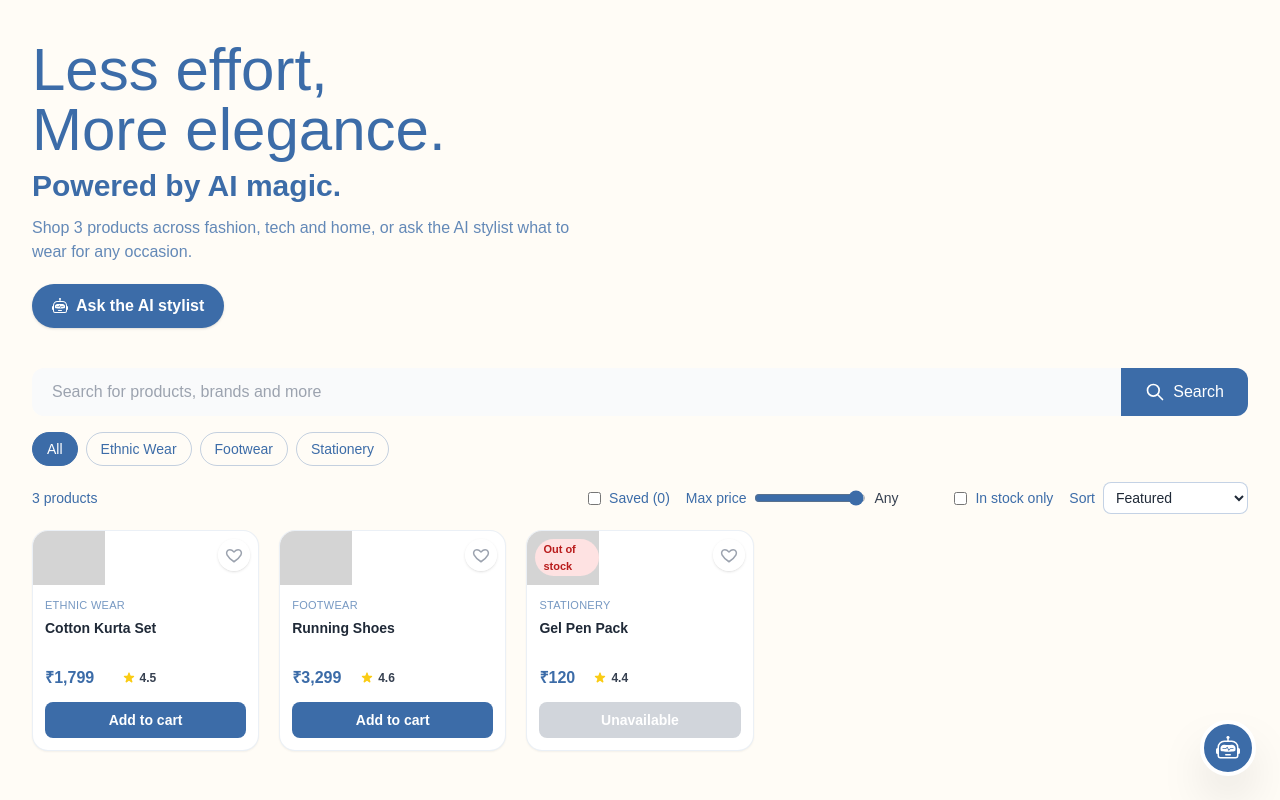
it: Home › sorting and the in-stock filter
Expected: the list with test id "product-grid" is shown, [32, 530, 754, 750]
Select "Price: low to high" in the dropdown labelled "Sort" at (1176, 498), box [1103, 482, 1248, 514]
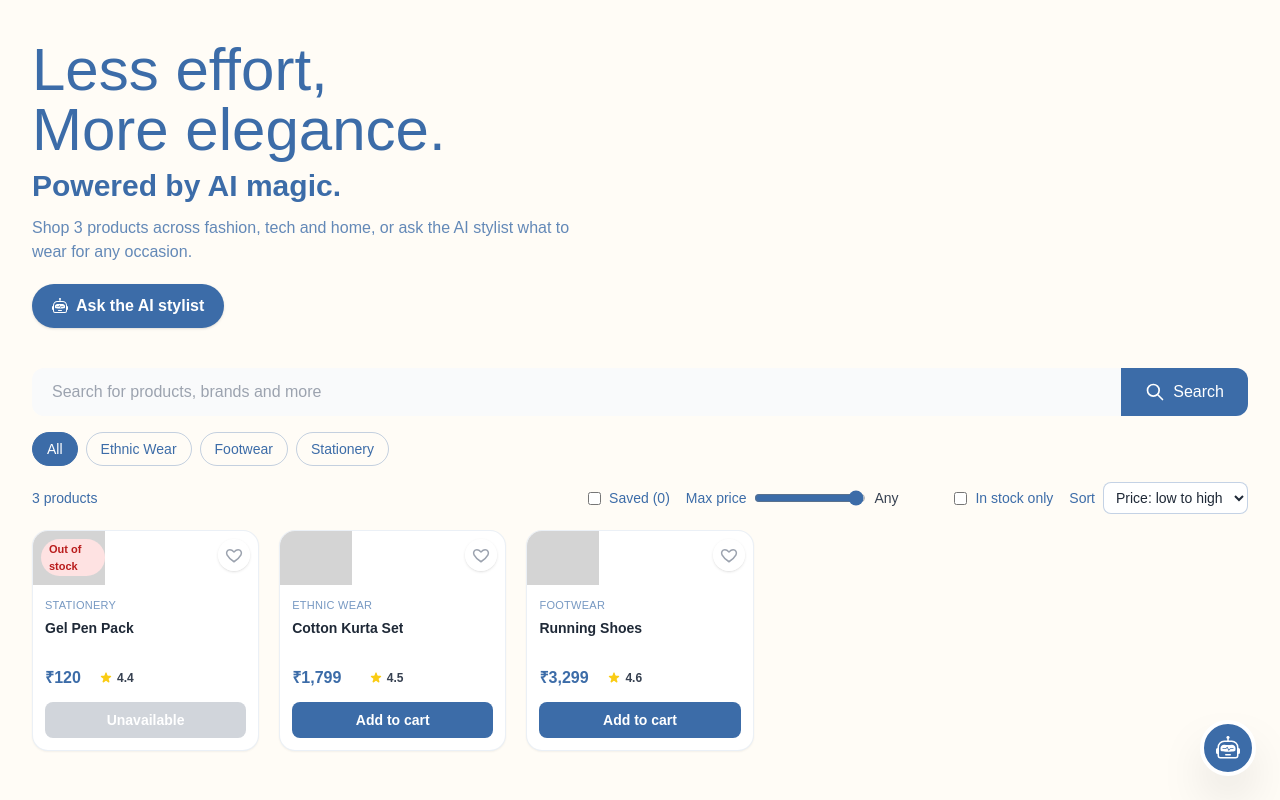
Select "Top rated" in the dropdown labelled "Sort" at (1176, 498), box [1103, 482, 1248, 514]
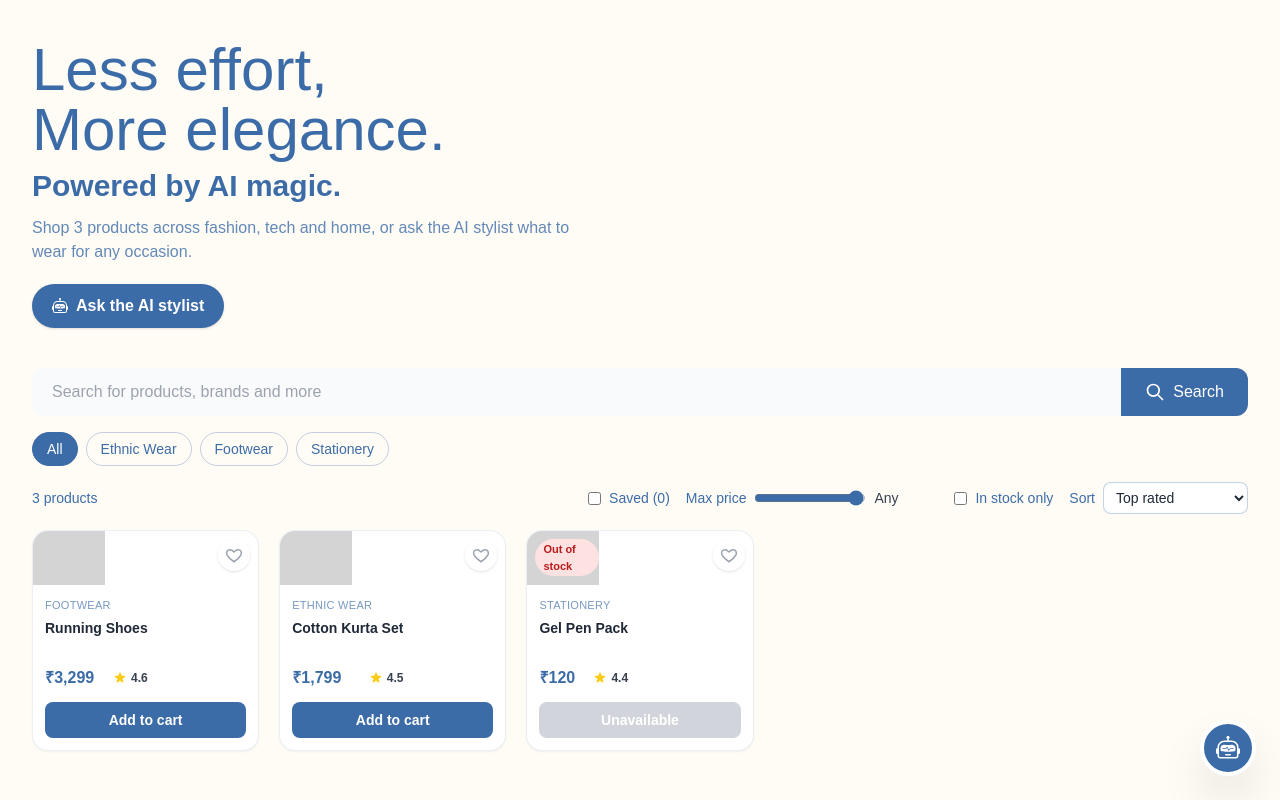
Expected: the heading "Running Shoes" is shown, [45, 620, 148, 636]
Click the checkbox labelled "In stock only" at (961, 498), box [954, 492, 968, 504]
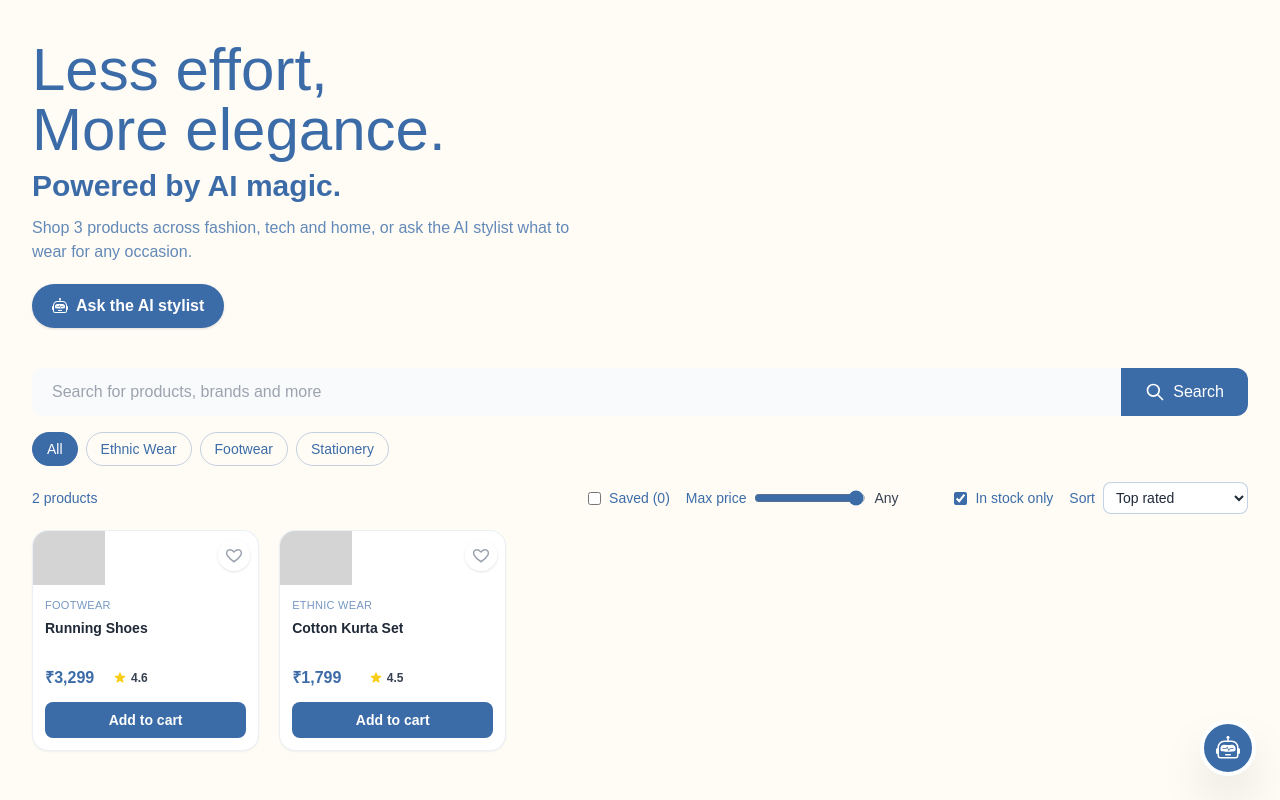
Result: the button "Gel Pen Pack" no longer shows "Gel Pen Pack"
